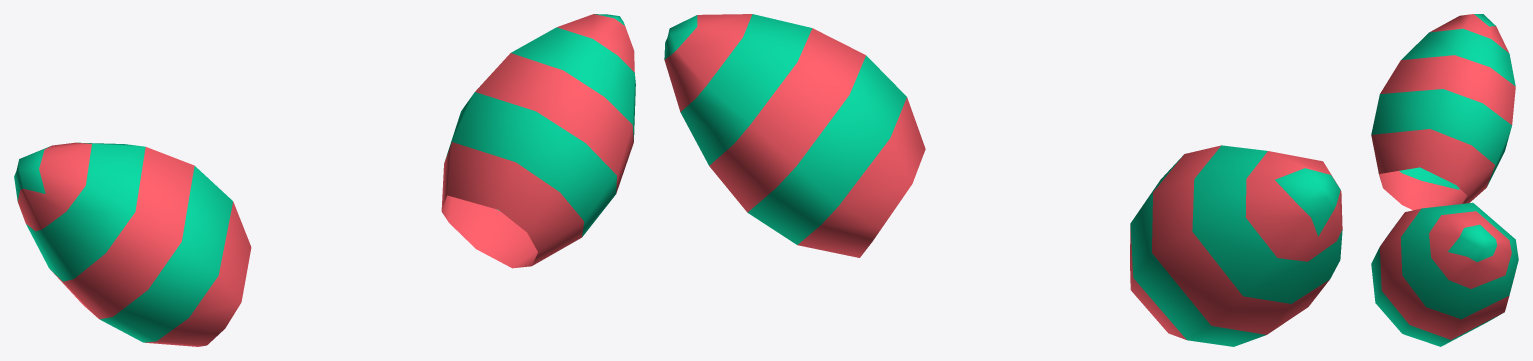
Rendered from Ears_Cute.glb.
3 views of the same model, side by side, from view 1: azimuth 30°, elevation 25°; view 2: azimuth 150°, elevation 25°; view 3: azimuth 270°, elevation 25° (orthographic). The views are drawn at different scales.
Parts seen in each view (by area): view 1: Ears_Cute; view 2: Ears_Cute; view 3: Ears_Cute.
Boxes of the visible parts, x1,y1,x2,y2 form: Ears_Cute: [14, 14, 635, 346]; Ears_Cute: [664, 14, 1342, 346]; Ears_Cute: [1371, 14, 1518, 346].
Bounding box in the file's own units: 1.19 × 0.3834 × 0.3242.
1 material, 1 textured.
